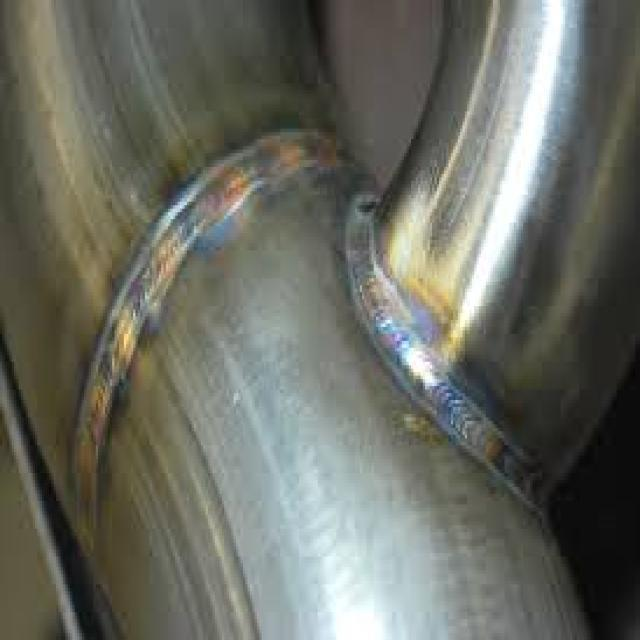Dry Waste: (39, 79, 385, 572), (324, 137, 588, 568)
